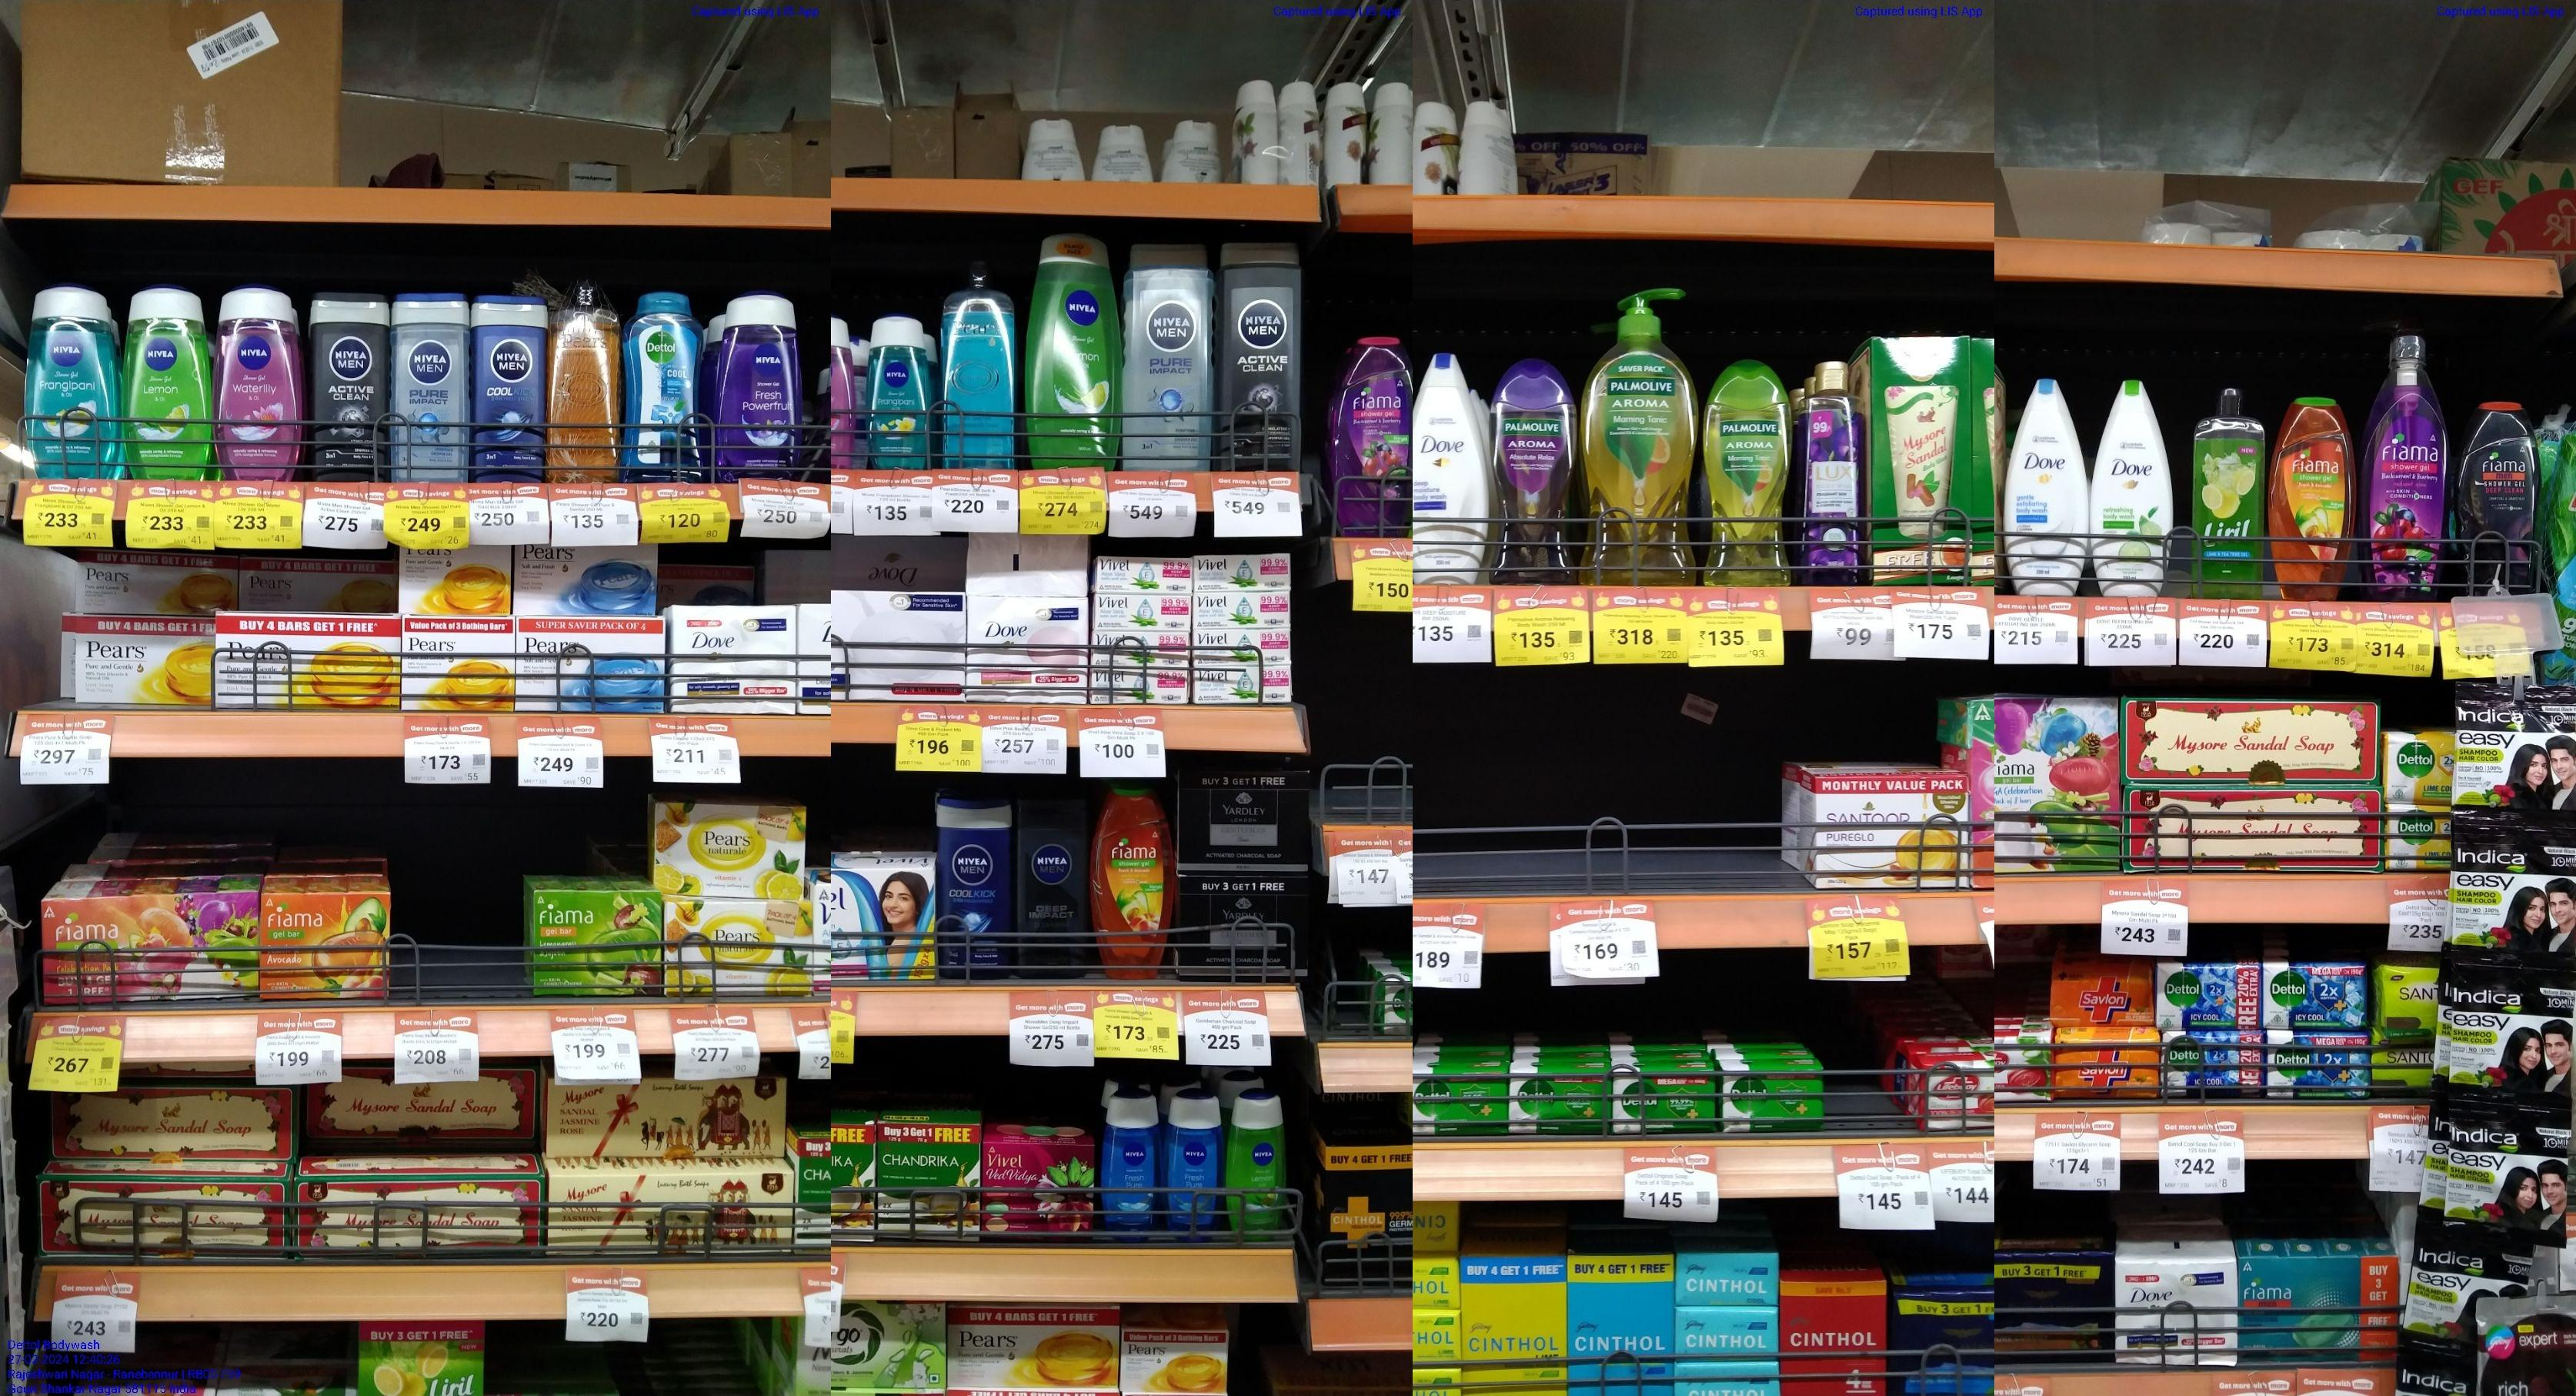Dettol_Bodywash_Cool: (624, 291, 703, 485)
Dove_Deep_Moisture_Body_Wash_250ML: (1411, 351, 1481, 585)
Dove_Gentle_Exfoliating_Body_Wash_250ML: (2004, 375, 2083, 597)
Dove_Refreshing_Body_Wash_250ML: (2091, 380, 2172, 600)
Fiama_Shower_Gel_Peach_and_Avocado_250ML: (1086, 779, 1174, 983), (2272, 395, 2353, 600)
Liril_Lime_and_Tea_Tree_Oil_Body_Wash_250ML: (2191, 389, 2263, 602)
Lux_Black_Orchid_Scent_and_Juniper_Oil_Body_Wash_245ML: (1803, 358, 1868, 588)
Nivea_Shower_Gel_Frangipani_and_Oil_250ML: (24, 282, 117, 476), (866, 313, 931, 471)
Nivea_Shower_Gel_Fresh_Powerfruit_250ML: (722, 291, 803, 483)
Nivea_Shower_Gel_Lemon_and_Oil_250ML: (1026, 223, 1124, 475), (124, 280, 210, 483), (1230, 1090, 1292, 1245)
Nivea_Shower_Gel_Waterlily_and_Oil_250ML: (215, 282, 296, 481)
Palmolive_Aroma_Morning_Tonic_Shower_Gel_250ML: (1701, 358, 1794, 588)
Palmolive_Aroma_Relax_250ML: (1492, 358, 1579, 590)
